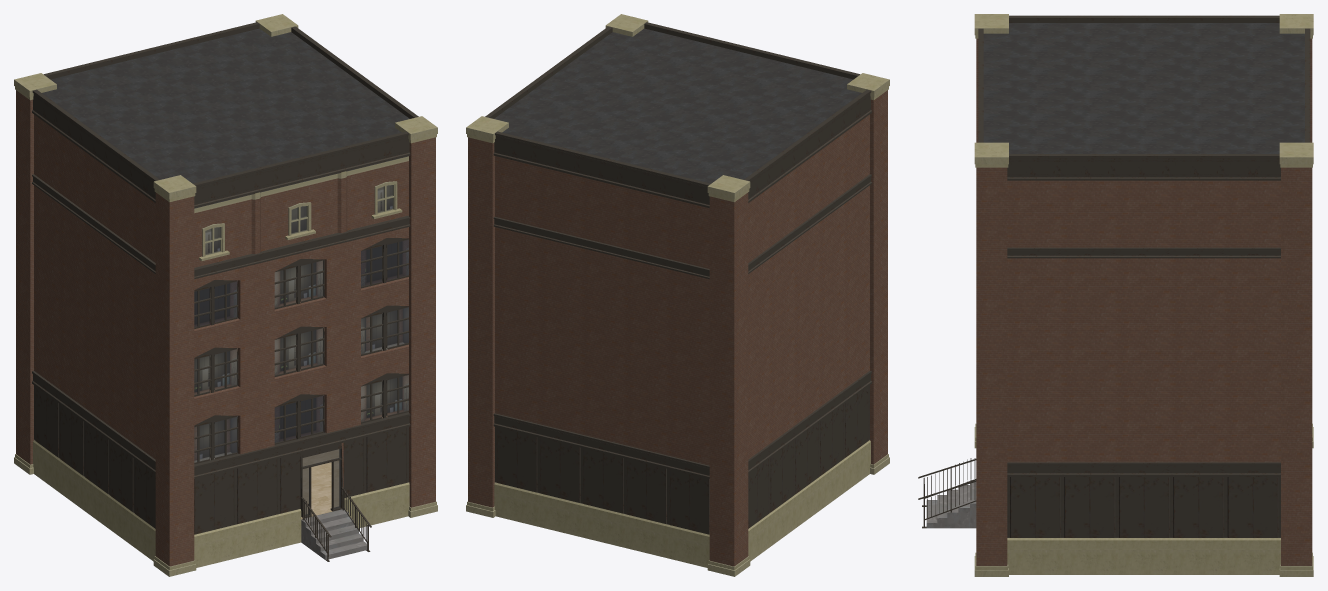
File: Building_Small_1.glb
3 renders of one model, left to right at view 1: azimuth 30°, elevation 25°; view 2: azimuth 150°, elevation 25°; view 3: azimuth 270°, elevation 25°, orthographic. The views are drawn at different scales.
Visible parts, largest first — view 1: Building_Small_1; view 2: Building_Small_1; view 3: Building_Small_1.
Boxes of the visible parts, x1,y1,x2,y2 form: Building_Small_1: (14, 14, 437, 576); Building_Small_1: (466, 14, 889, 576); Building_Small_1: (918, 14, 1313, 576).
Bounding box in the file's own units: 12.46 × 17.03 × 14.54.
10 materials, 9 textured.
